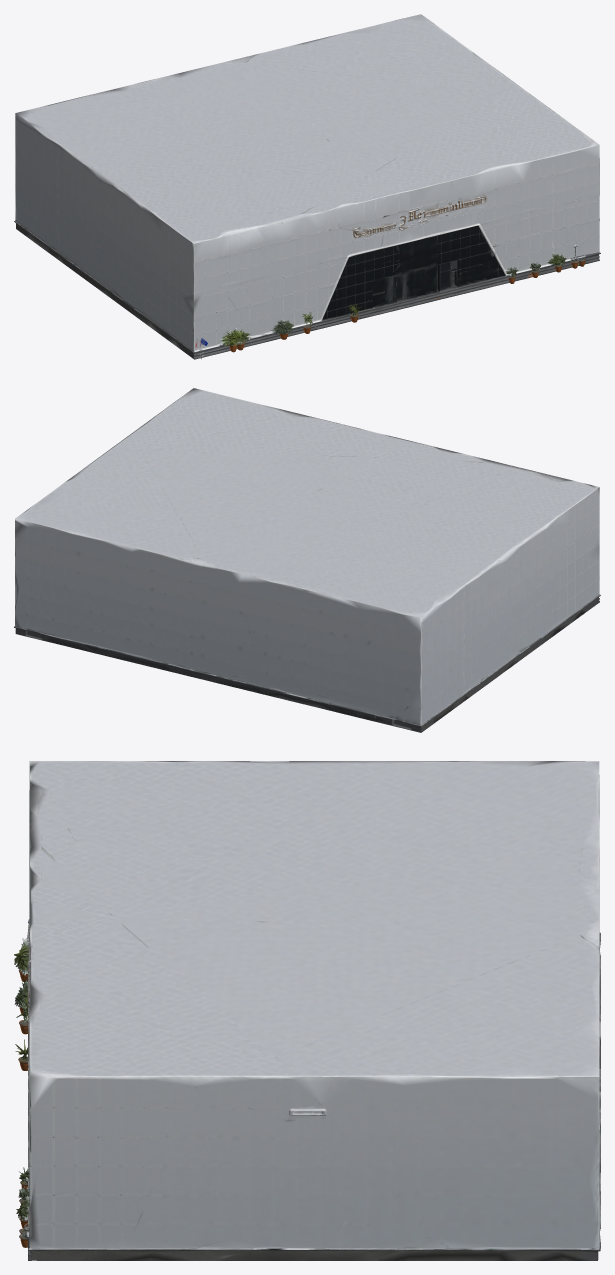
The model's file is The university bloc.glb.
The picture shows the model from 3 angles, top to bottom: view 1: azimuth 30°, elevation 25°; view 2: azimuth 150°, elevation 25°; view 3: azimuth 270°, elevation 25°; orthographic projection. The views are drawn at different scales.
Size of the model in its own units: 1.9 by 0.5209 by 1.49.
Materials: 1 (1 with a texture image).
